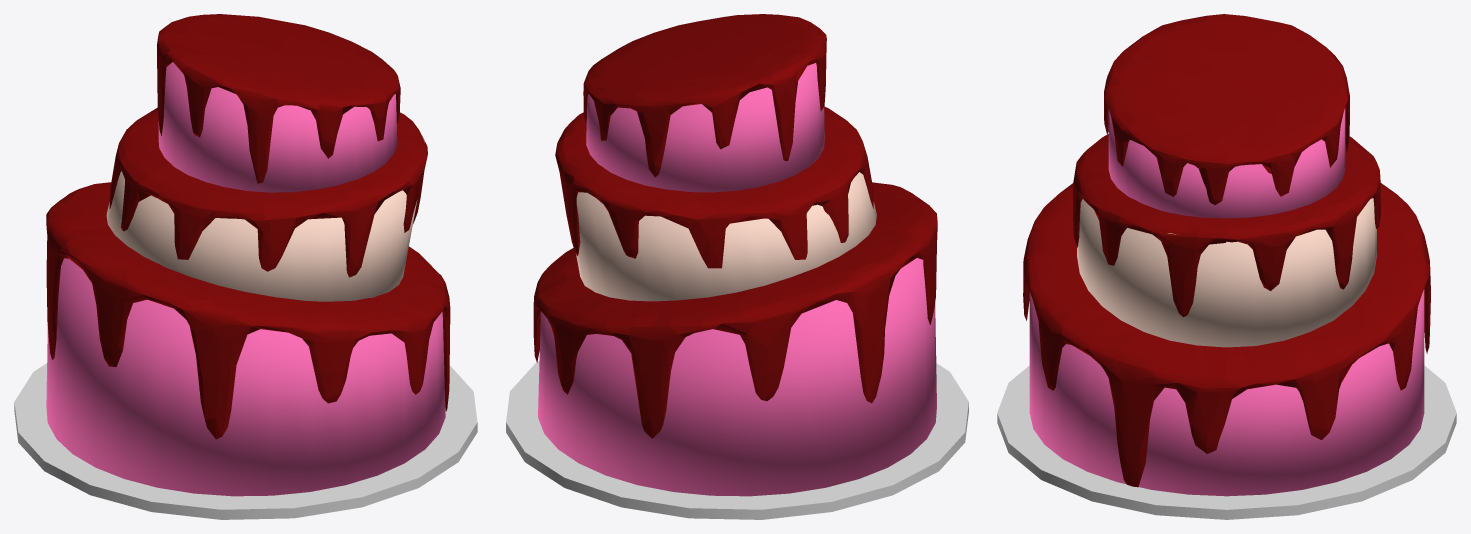
File: Cake1.fbx
The picture shows the model from 3 angles, left to right: view 1: azimuth 30°, elevation 25°; view 2: azimuth 150°, elevation 25°; view 3: azimuth 270°, elevation 25°; orthographic projection.
Parts seen in each view (by area): view 1: Cake; view 2: Cake; view 3: Cake.
Boxes of the visible parts, box(x1,y1,x2,y2) form: Cake: box(14, 14, 477, 519); Cake: box(506, 14, 968, 519); Cake: box(997, 14, 1456, 519).
Bounding box in the file's own units: 185 × 167 × 185.
